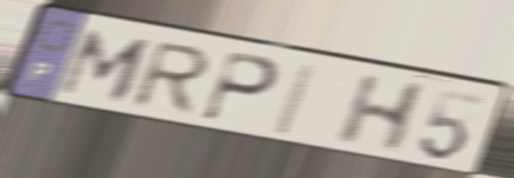5: (416, 86, 491, 163)
H: (330, 72, 433, 156)
I: (266, 59, 324, 140)
M: (53, 26, 158, 105)
P: (197, 49, 284, 126)
R: (125, 39, 215, 118)
